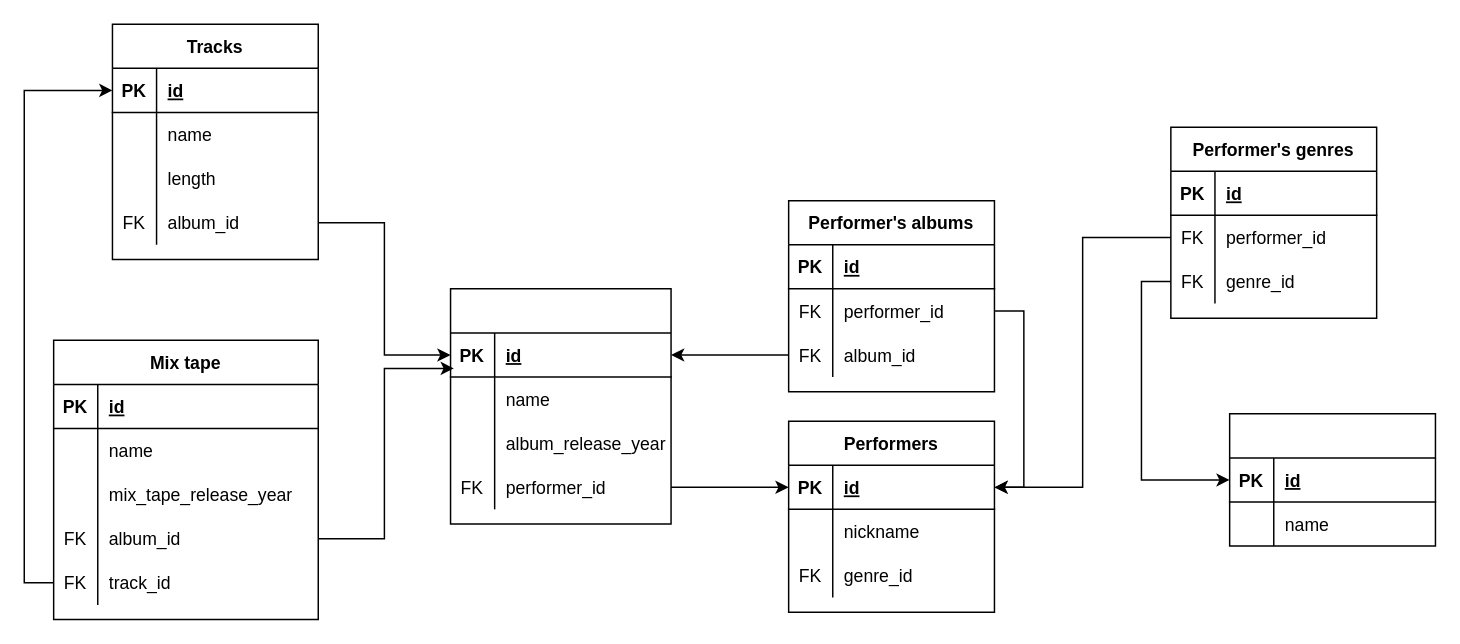
Image size: 1460x644. Some labels were removed from this diagram. Here are the shapes that lost their labels. From the top down, the box of each, then its label:
(449, 287, 671, 524): Albums
(1228, 412, 1435, 546): Genres
